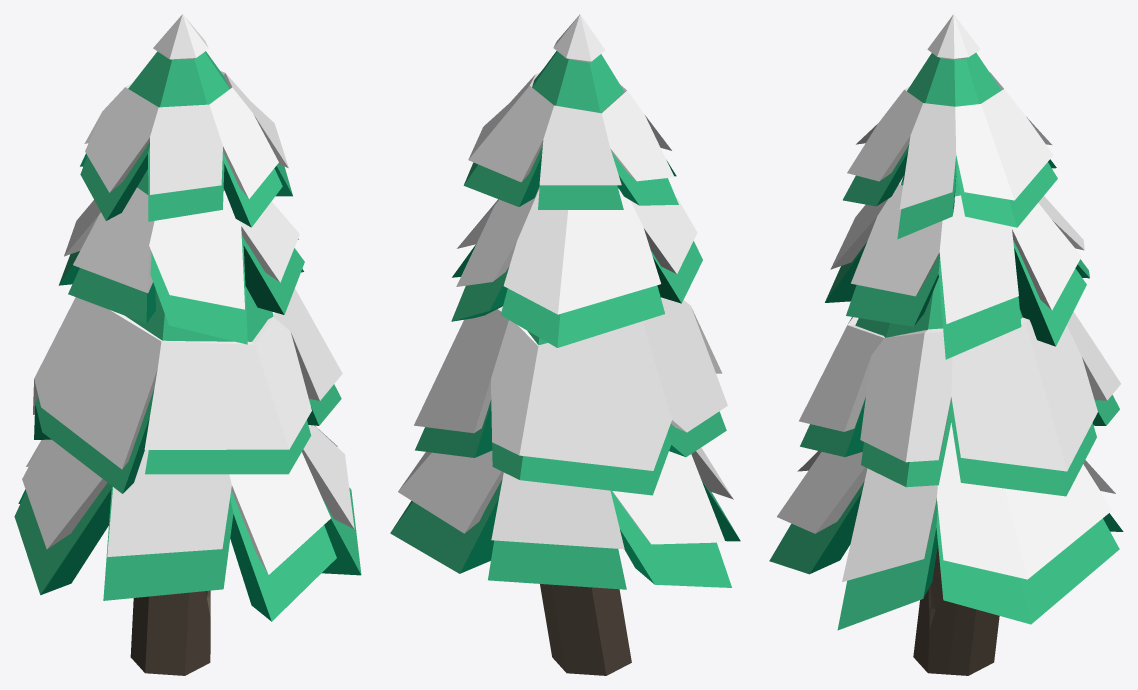
The model's file is SnowTree_03.glb.
3 renders of one model, left to right at view 1: azimuth 30°, elevation 25°; view 2: azimuth 150°, elevation 25°; view 3: azimuth 270°, elevation 25°, orthographic.
Visible parts, largest first — view 1: SnowTree_03; view 2: SnowTree_03; view 3: SnowTree_03.
Boxes of the visible parts, x1,y1,x2,y2 form: SnowTree_03: [14, 14, 361, 675]; SnowTree_03: [390, 14, 740, 675]; SnowTree_03: [769, 14, 1123, 675].
Size of what is drawn, in the model's own units: 2.81 by 5.69 by 2.8.
Materials: 1 (1 with a texture image).
